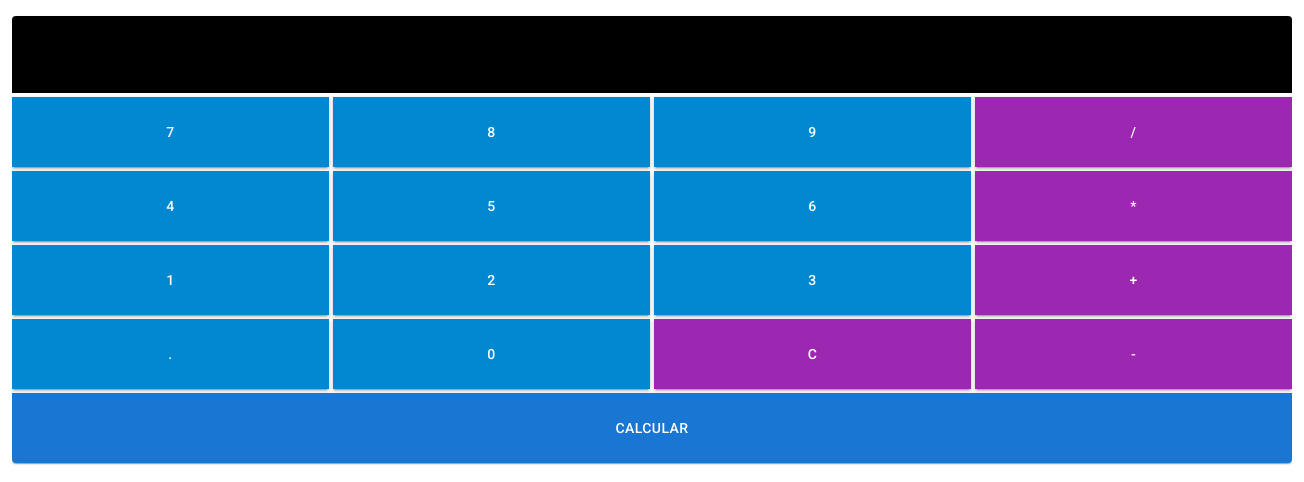
Calculadora component › Deve multiplicar dois números
The image size is (1304, 482).
Click the button "9" at (812, 132), box [654, 97, 971, 167]
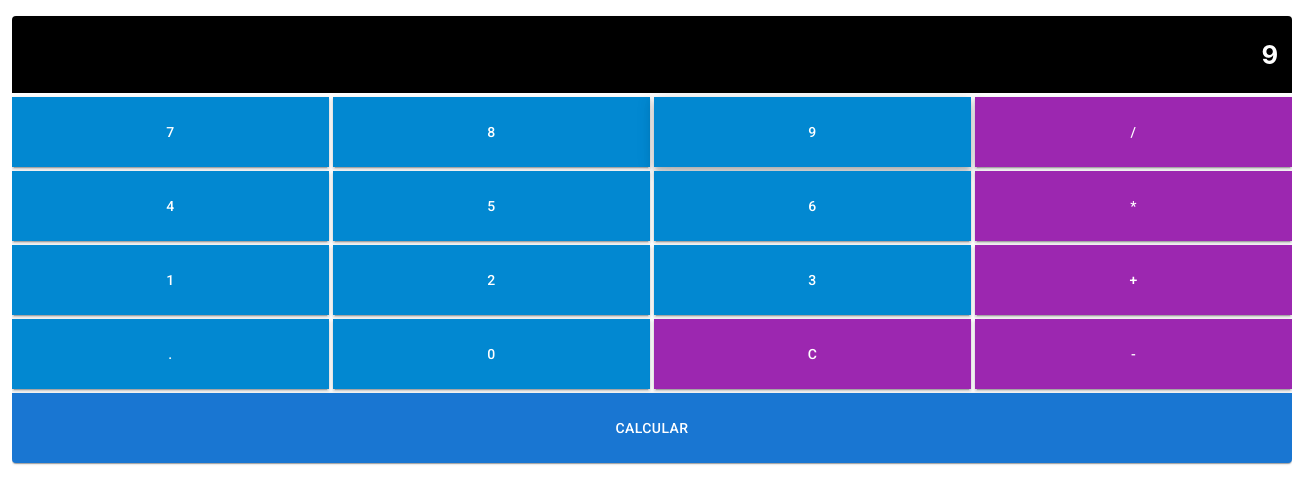
Click the button "*" at (1134, 206), box [975, 171, 1292, 241]
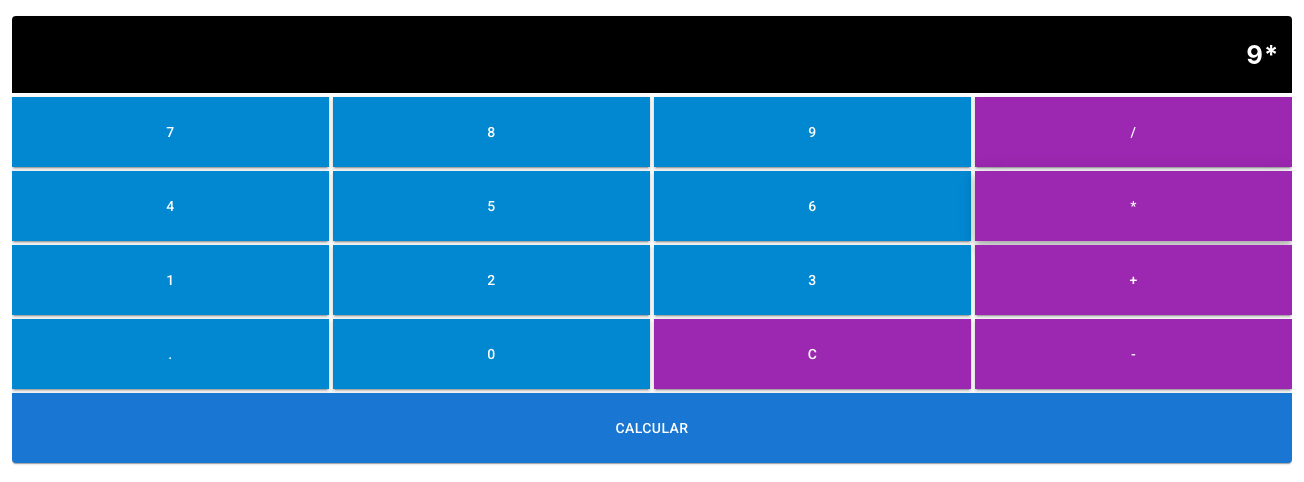
Click the button "2" at (492, 280), box [333, 245, 650, 315]
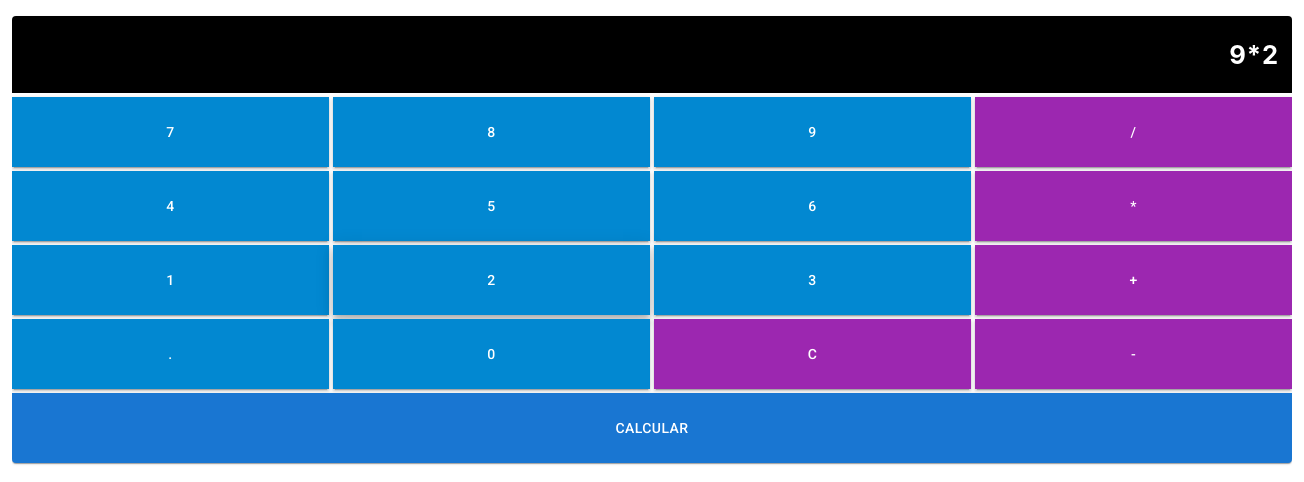
Click the button "Calcular" at (652, 428), box [12, 393, 1292, 463]
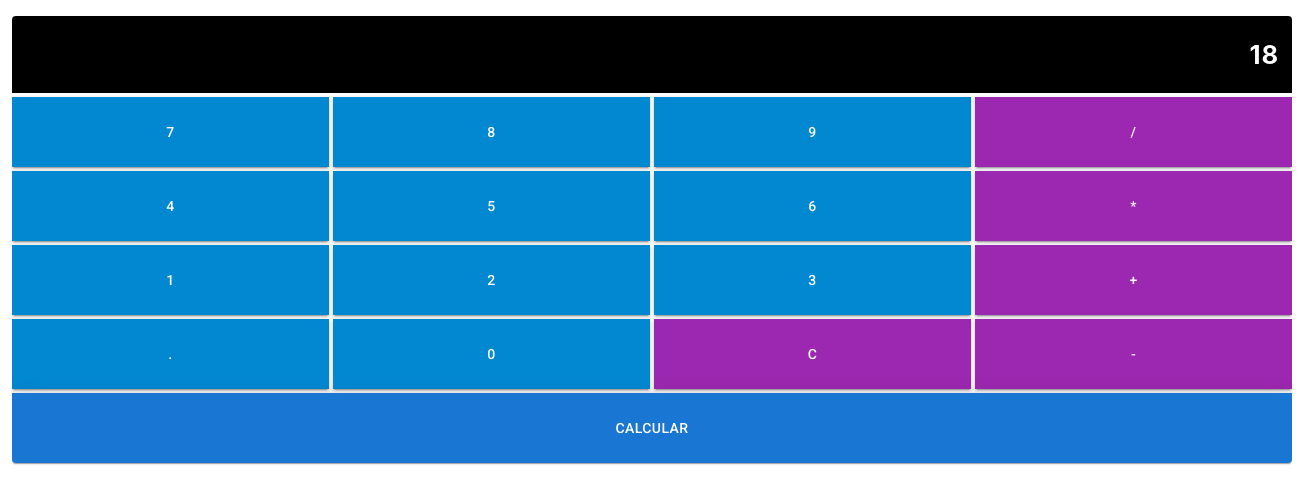
Result: the text "18" is shown at [12, 16, 1292, 93]
